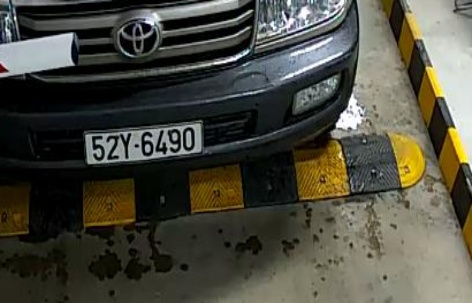plate: (80, 114, 208, 162)
